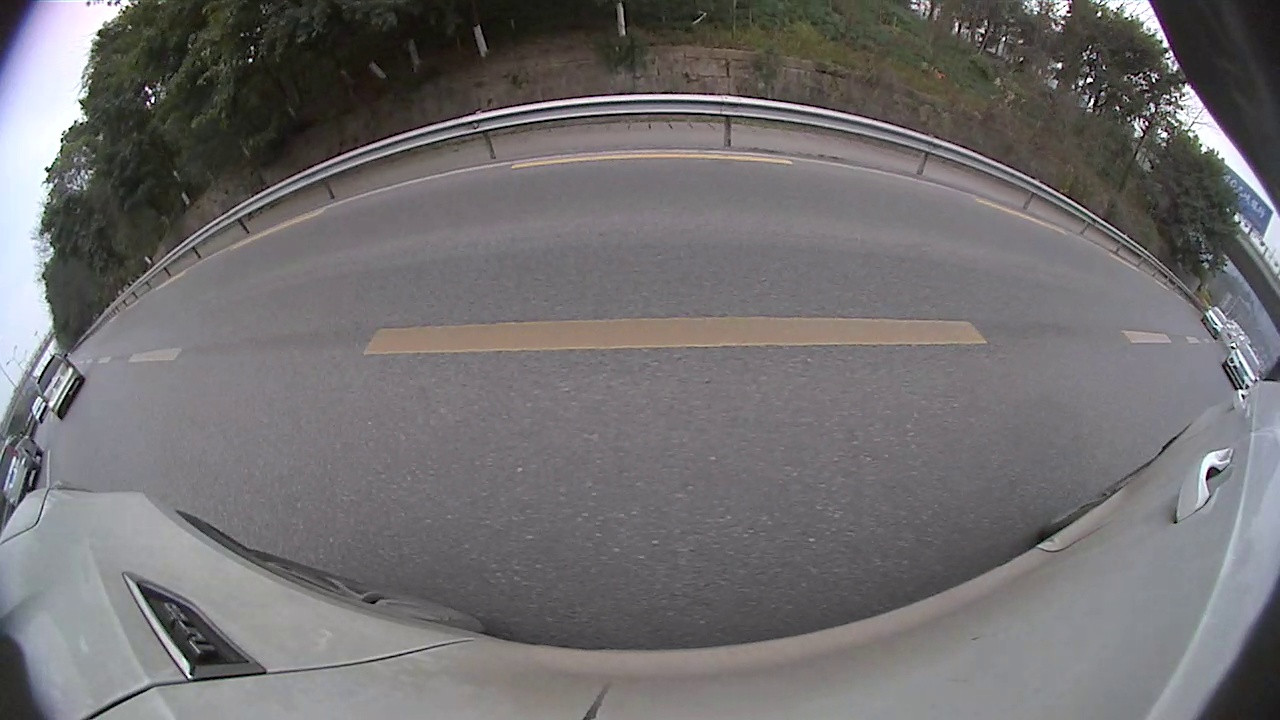bus: (818, 101, 1148, 289), (1177, 215, 1279, 406), (724, 137, 785, 178)
car: (180, 145, 488, 323), (752, 134, 887, 223), (609, 132, 727, 220), (533, 148, 593, 196), (726, 161, 745, 186)
front: (464, 195, 491, 233), (750, 177, 765, 204)
rear: (328, 227, 385, 299), (939, 195, 978, 242), (784, 183, 806, 220)
